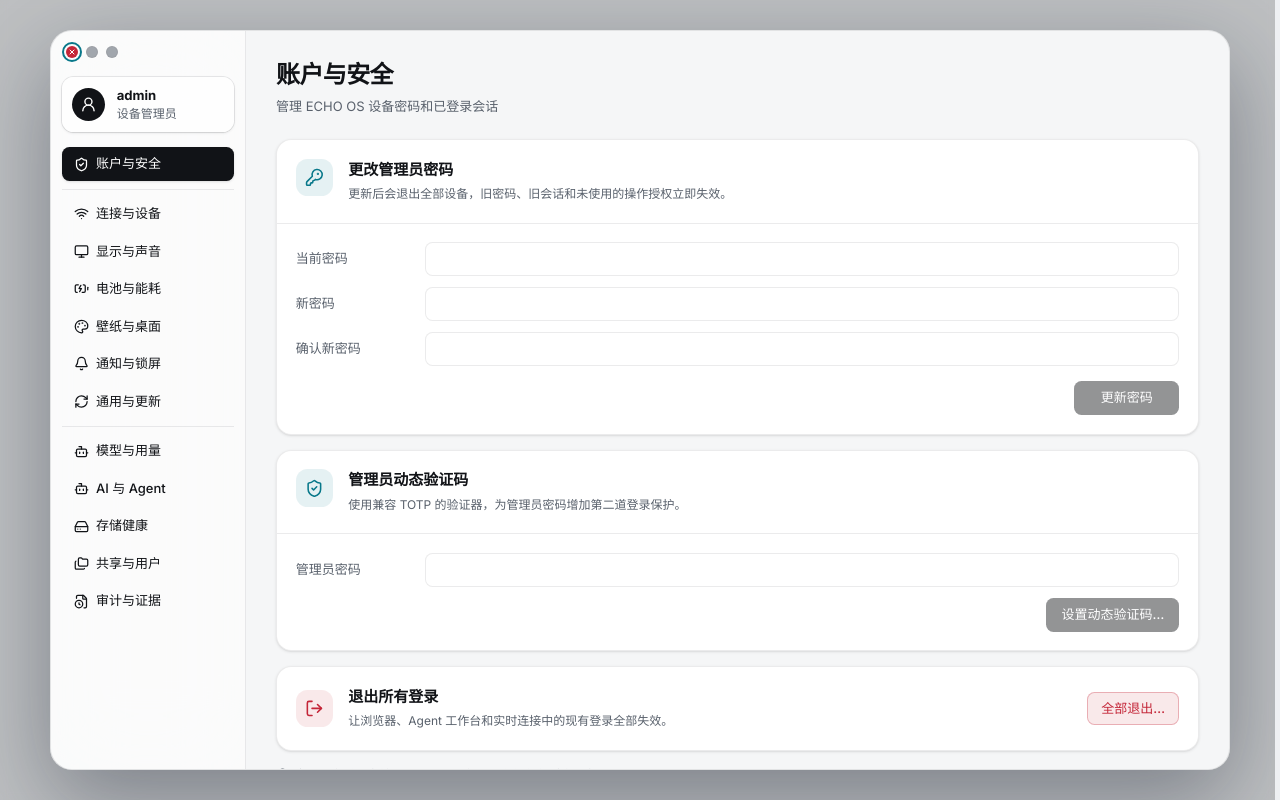
Scenario: Echo OS account security settings › opens read-only storage health inside system settings
The width and height of the screenshot is (1280, 800).
Click the button "存储健康".
click(148, 526)  # box [62,509,234,543]
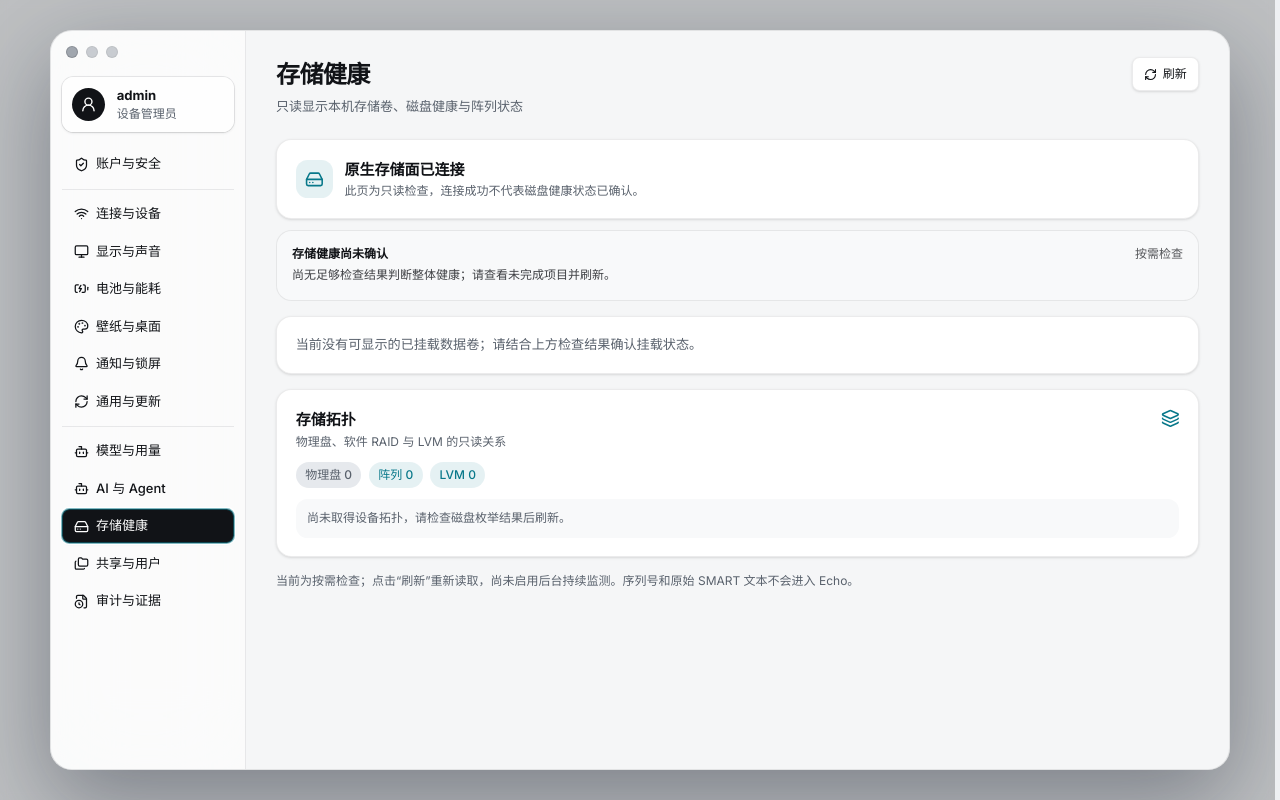
expect the heading "存储健康" is shown: met, box [276,60,370,89]
